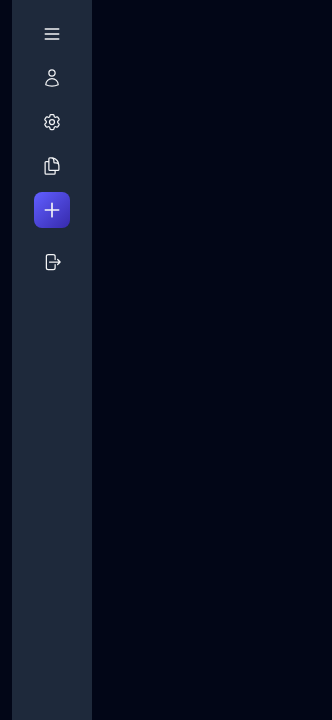
Scenario: Sidebar Component › fetches and displays conversations on mount
What coordinates should you click on to do the following:
click the button titled "Expand"
I would click on:
 (52, 34)
Its box is [34,16,70,52].
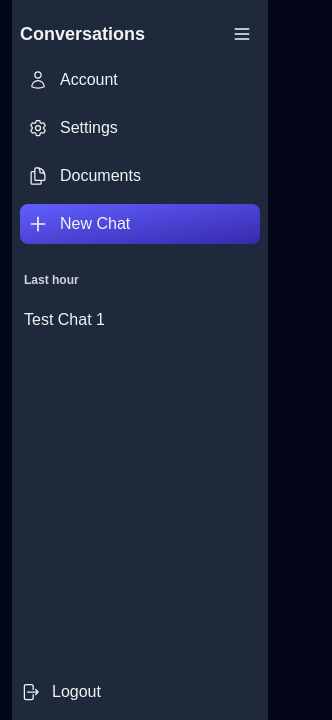
Result: the heading "Test Chat 1" is shown at [24,311,105,328]
